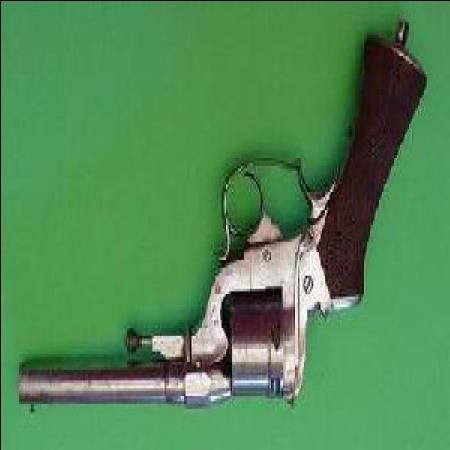Pistol: (19, 34, 429, 418)
